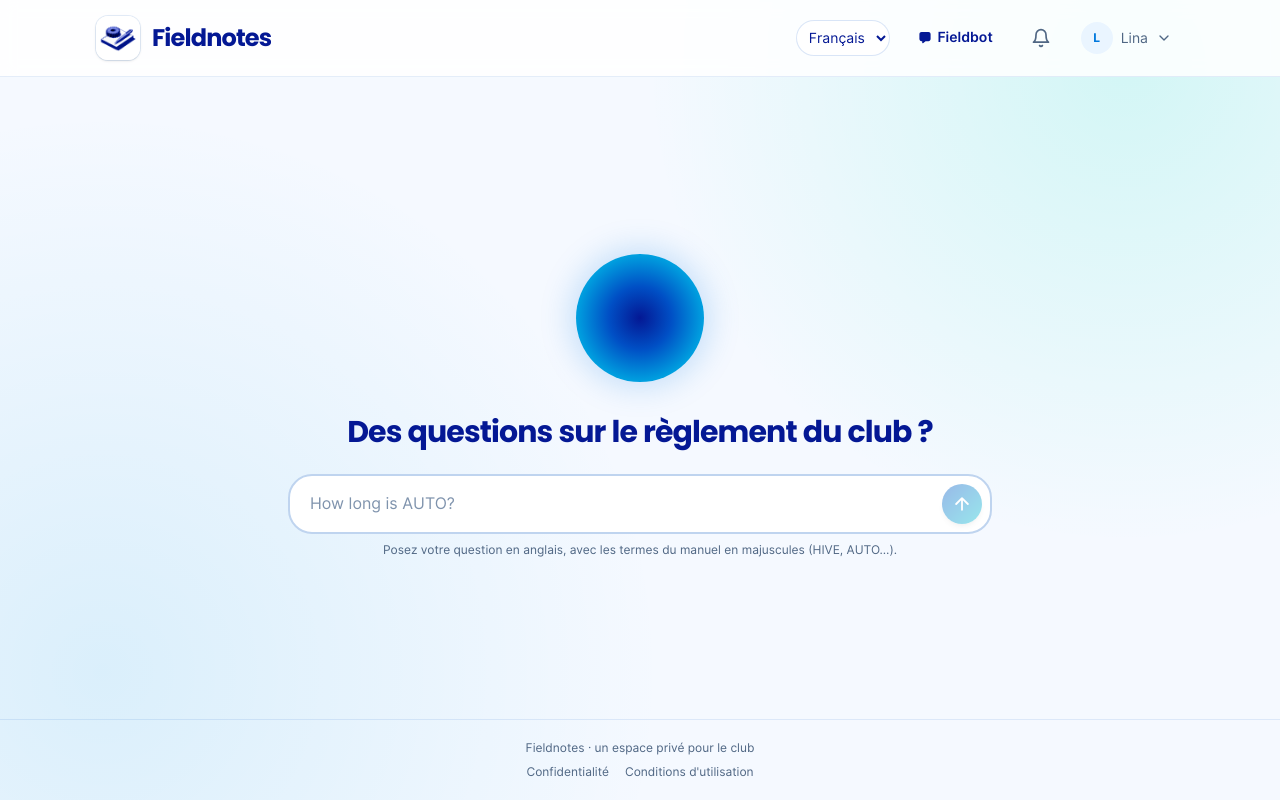
shows the server's own sentence when nothing could be cited
Type "Quelle heure ?" into the text box named "Votre question sur le règlement" at (622,504), box [310,484,934,524]
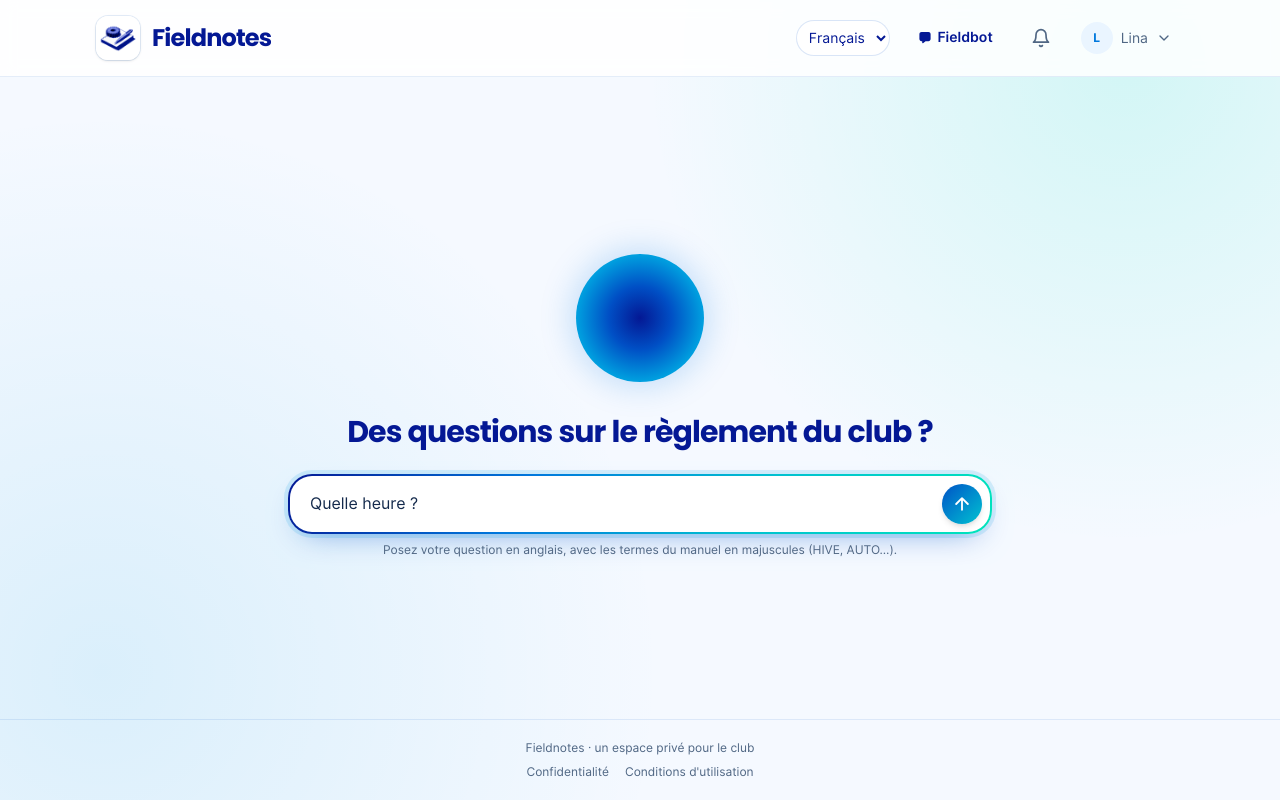
Click the button named "Envoyer la question" at (962,504), box [942,484,982,524]
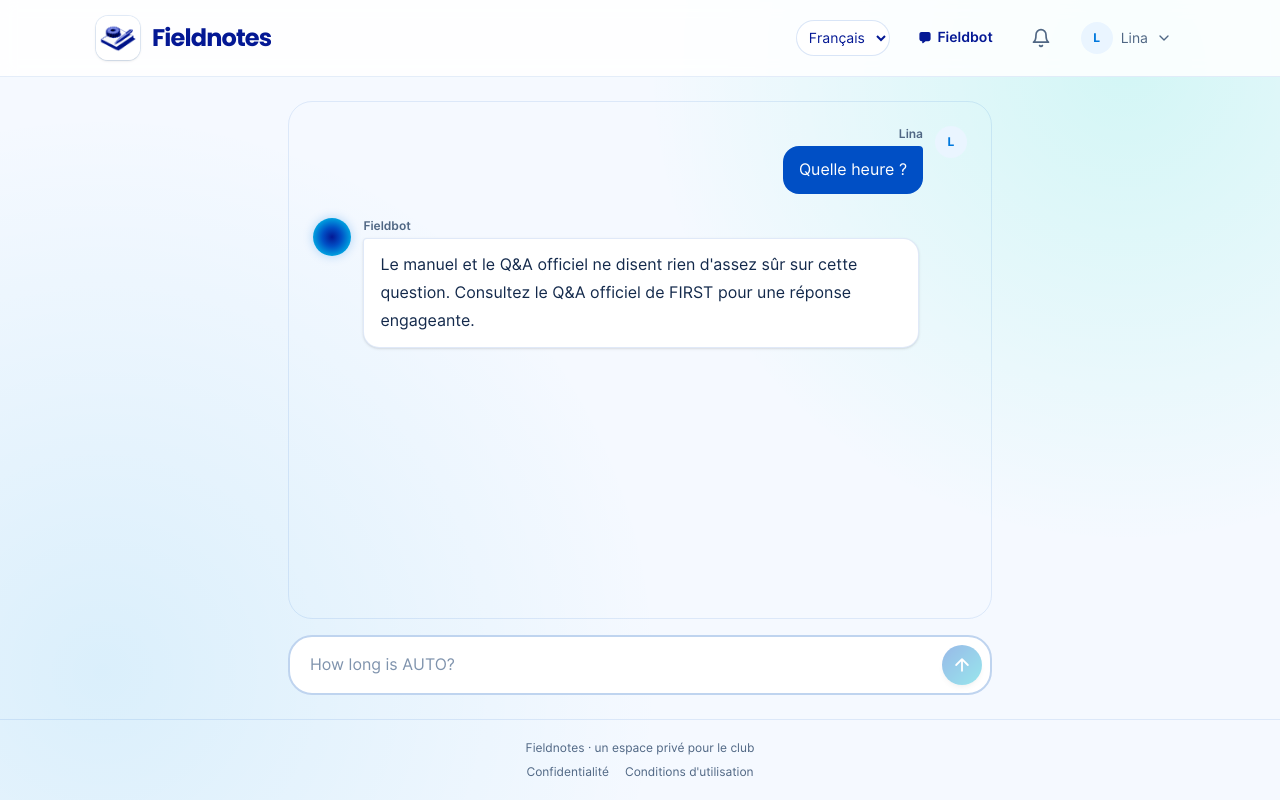
Now the text "Le manuel et le Q&A officiel ne disent rien d'assez sûr sur cette question. Consultez le Q&A officiel de FIRST pour une " is shown, box [380,255,857,330]
